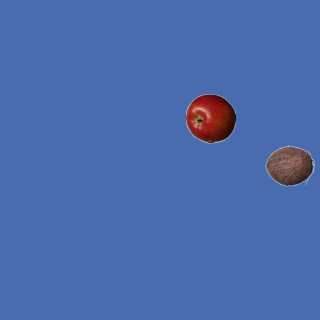Apple Braeburn: (185, 93, 235, 143)
Cocos: (264, 140, 314, 190)
